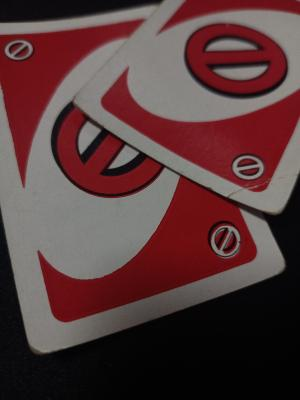skip: (46, 96, 176, 203), (180, 13, 296, 110), (201, 218, 246, 261), (225, 147, 269, 189), (0, 27, 37, 67)
